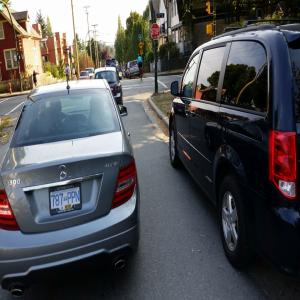Vehicle-registration-plate: (50, 186, 83, 218)
